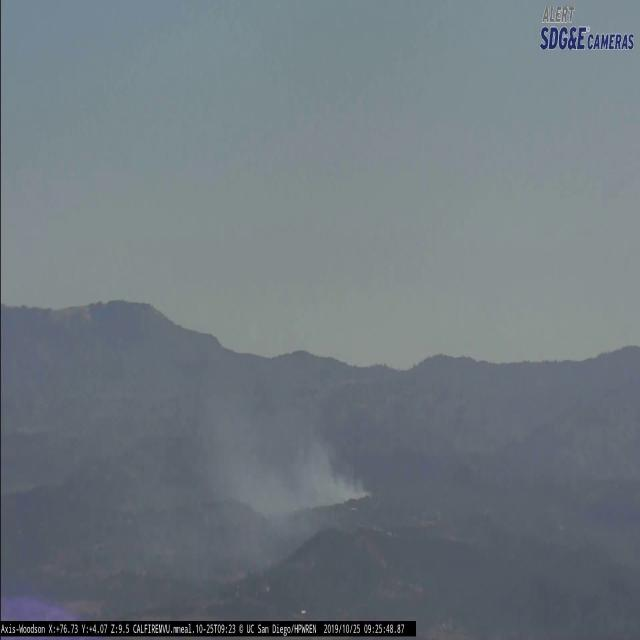smoke: (181, 389, 371, 575)
